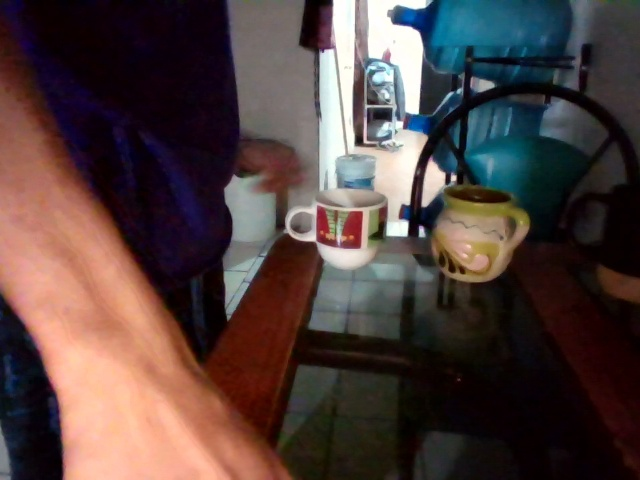taza: (315, 188, 388, 270)
